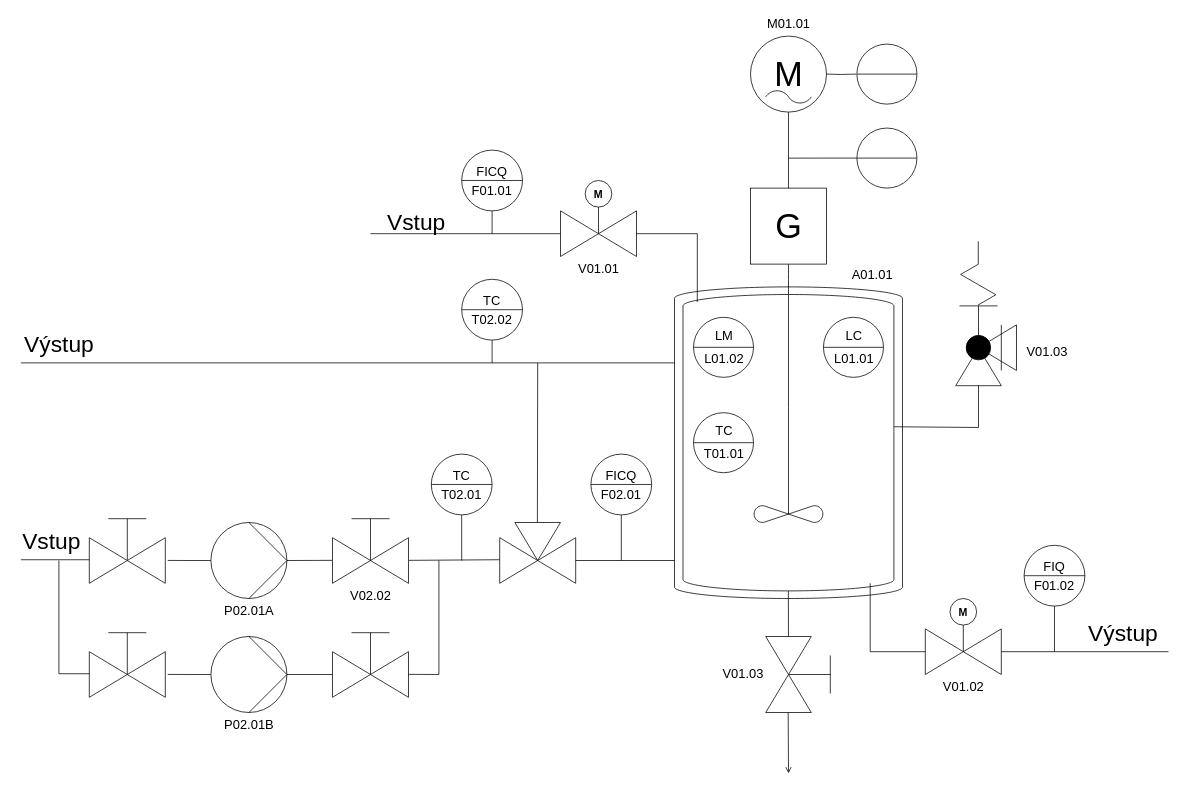
Some shapes in this 1183 by 793 pixel diagram are drawn without their labels. The centre of each missing label's shape, as x and y in pixels:
SI S01.01: (886,157)
TI T01.02: (886,73)
V02.01: (127,545)
V02.03: (127,659)
V02.04: (370,659)
V02.05: (537,552)
